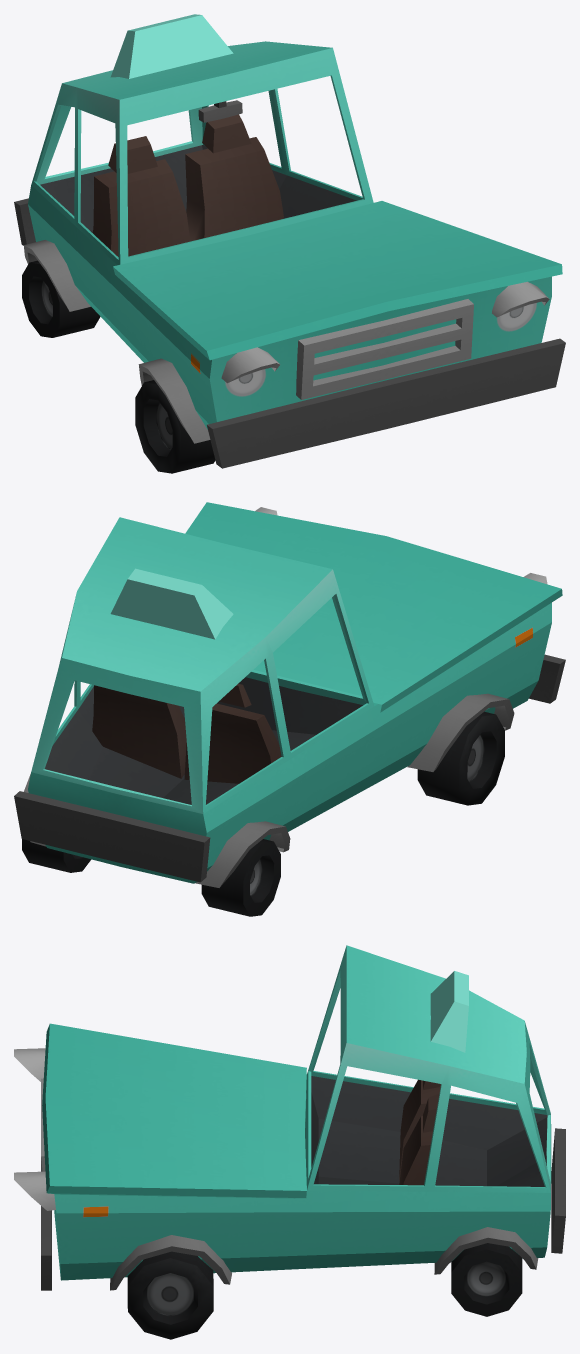
File: Car.FBX
The picture shows the model from 3 angles, top to bottom: view 1: azimuth 30°, elevation 25°; view 2: azimuth 150°, elevation 25°; view 3: azimuth 270°, elevation 25°; orthographic projection. The views are drawn at different scales.
Visible parts, largest first — view 1: Car, Taxi_police_top, Car_whool_00, Car_Whool_01; view 2: Car, Taxi_police_top, Car_whool_00, Car_Whool_01, Car_Whool_03; view 3: Car, Car_Whool_02, Car_Whool_03, Taxi_police_top.
Boxes of the visible parts, x1,y1,x2,y2 form: Car: (14, 41, 565, 468); Taxi_police_top: (110, 14, 233, 78); Car_whool_00: (135, 380, 215, 473); Car_Whool_01: (22, 260, 100, 337); Car: (14, 502, 565, 887); Taxi_police_top: (110, 568, 233, 639); Car_whool_00: (417, 711, 504, 805); Car_Whool_01: (201, 839, 280, 916); Car_Whool_03: (22, 839, 91, 872); Car: (14, 945, 565, 1290); Car_Whool_02: (127, 1251, 213, 1339); Car_Whool_03: (451, 1243, 522, 1316); Taxi_police_top: (430, 971, 468, 1052).
Bounding box in the file's own units: 62.3 × 50.08 × 89.4.
